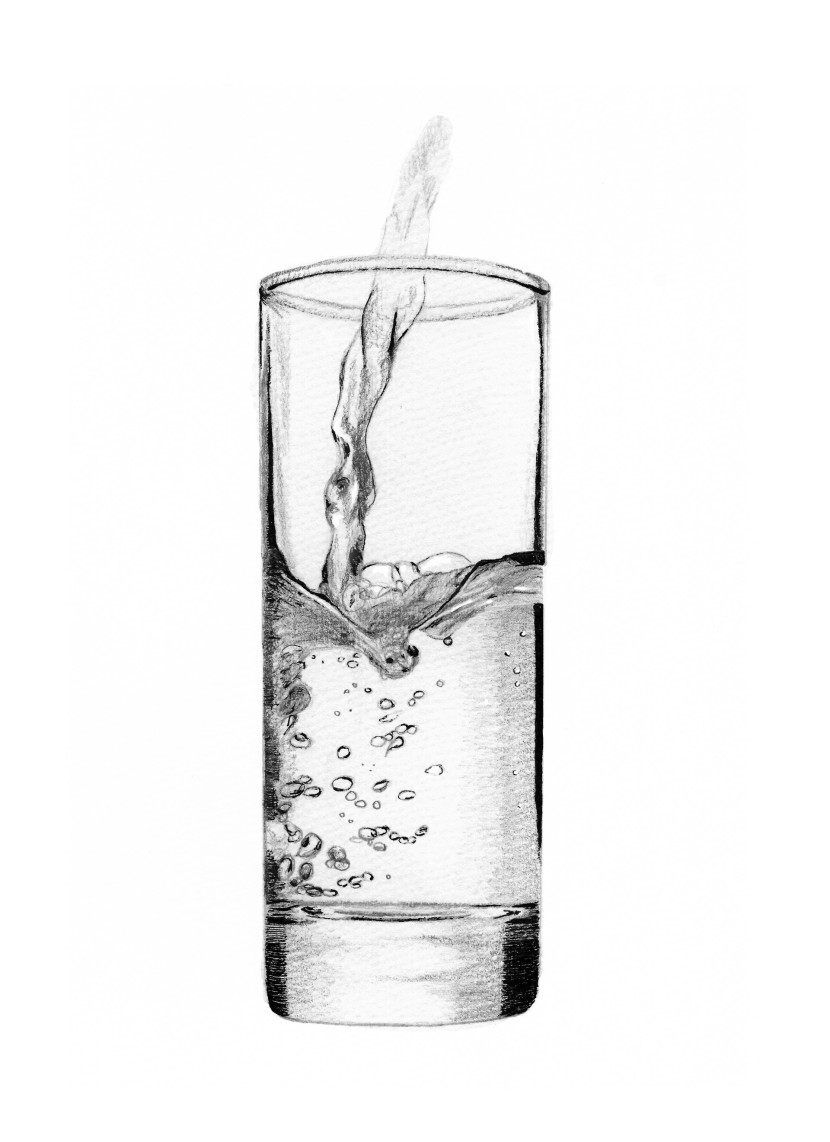glass of water: (281, 279, 525, 1012)
